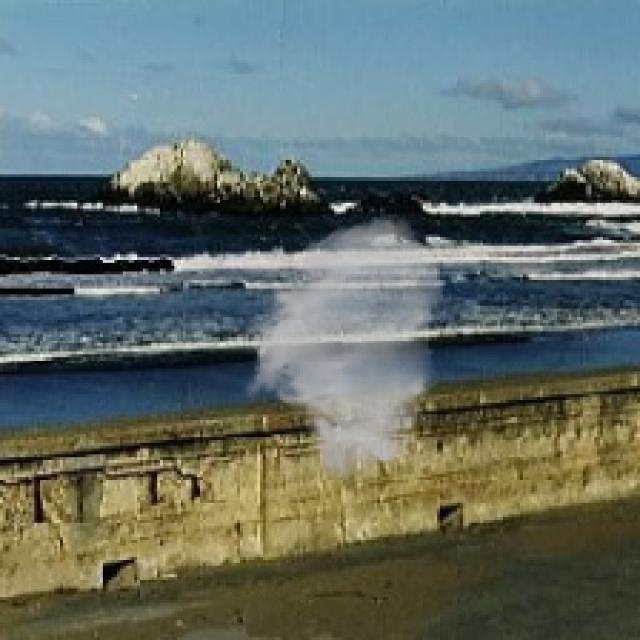smoke: (243, 211, 446, 483)
